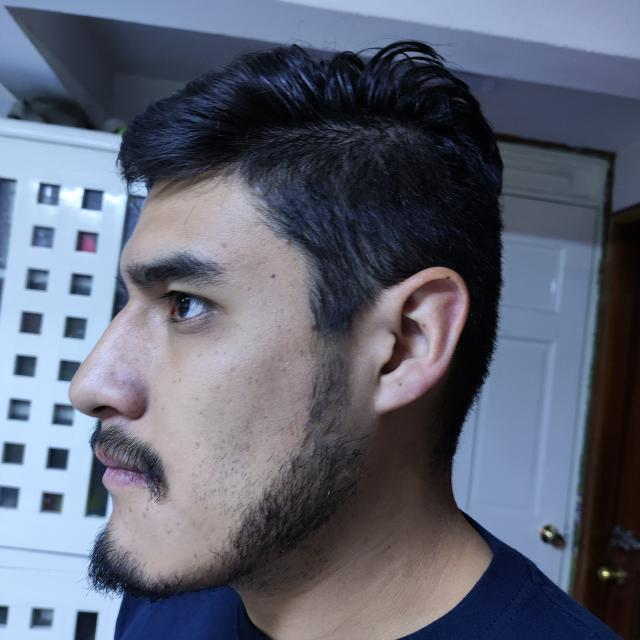ear: (364, 268, 469, 415)
